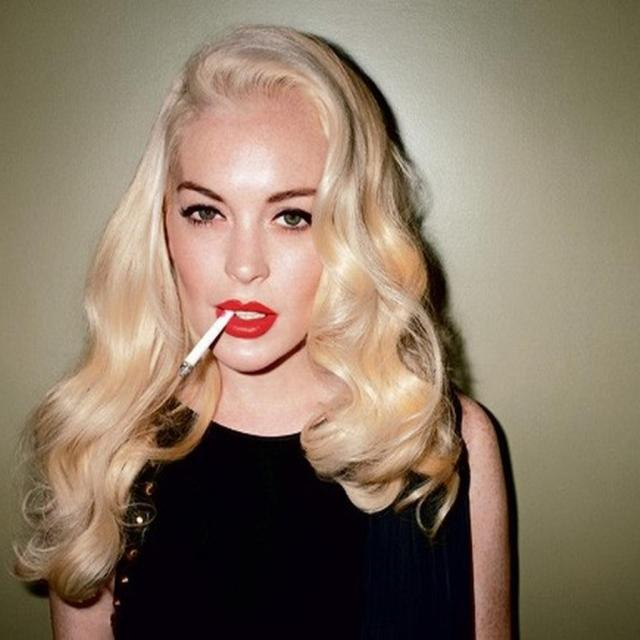smoking: (138, 20, 400, 402)
